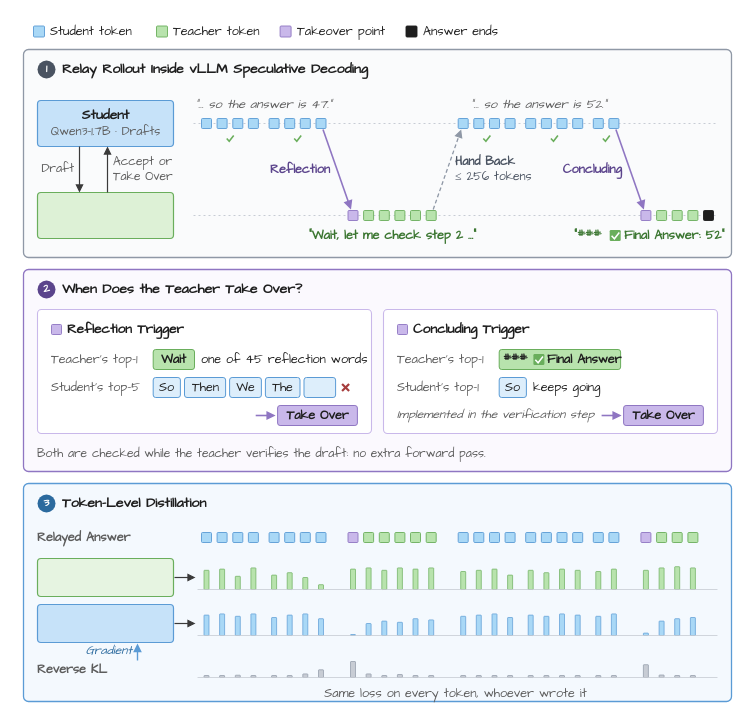
This 754x724 diagram has some shape labels left out. The centre of each missing label's shape, as x and y in pixels:
Let: (319,387)
Student Being trained: (105,623)
Teacher Qwen3-4B · Verifies: (105,215)
Teacher Scorer Separate GPU: (105,577)
